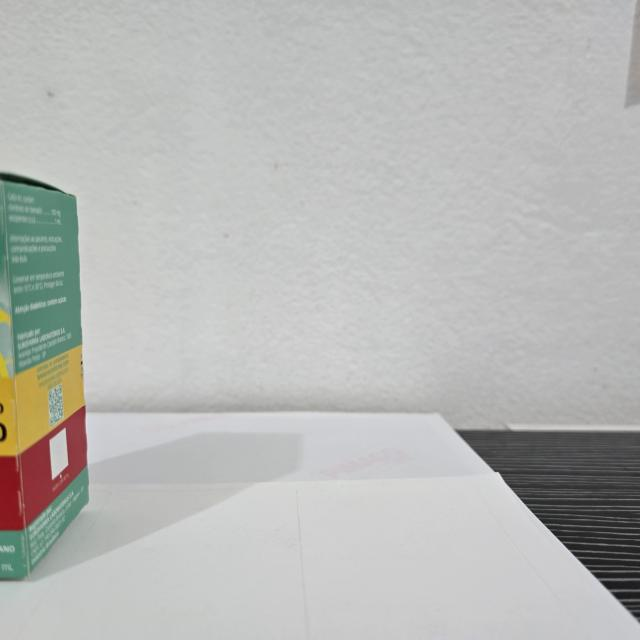tramadol: (0, 168, 91, 589)
